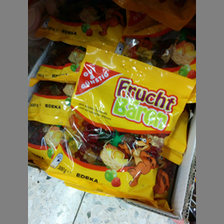candy: (44, 44, 193, 202)
